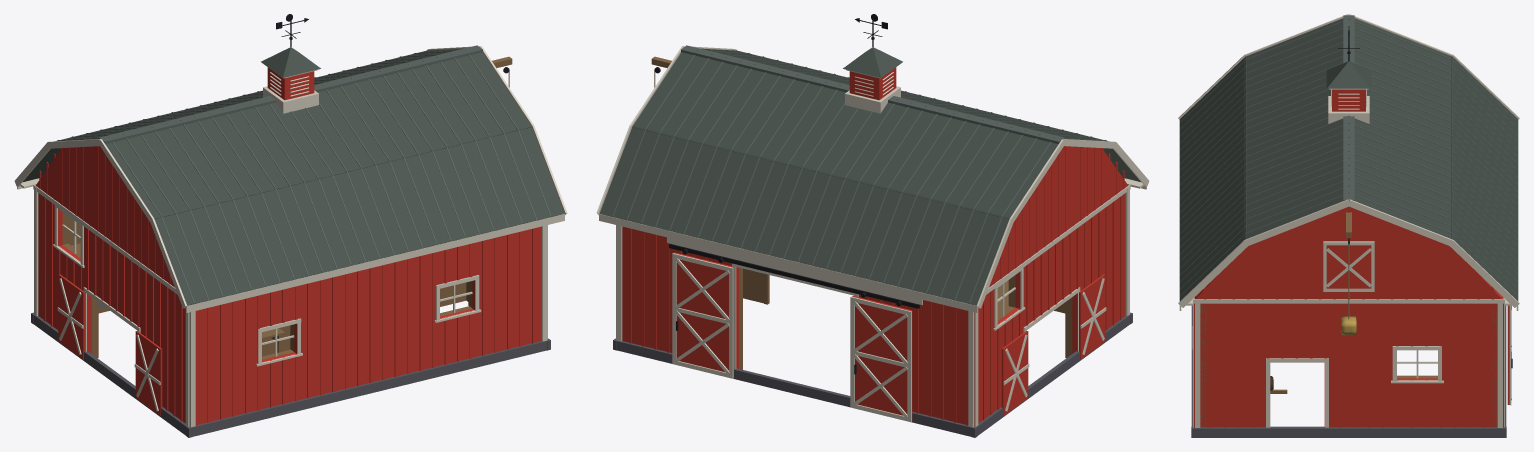
Rendered from hg-barn.glb.
3 views of the same model, side by side, from view 1: azimuth 30°, elevation 25°; view 2: azimuth 150°, elevation 25°; view 3: azimuth 270°, elevation 25° (orthographic).
Visible parts, largest first — view 1: hg-barn; view 2: hg-barn; view 3: hg-barn.
Part boxes in pixels (x1,y1,x2,y2): hg-barn: [14, 14, 567, 437]; hg-barn: [596, 14, 1149, 437]; hg-barn: [1178, 14, 1519, 437].
Bounding box in the file's own units: 14.05 × 10.37 × 9.97.
